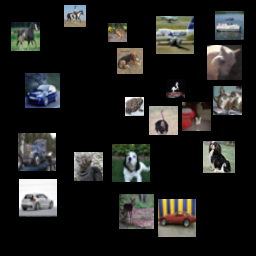airplane: (171, 192, 203, 224)
automobile: (214, 87, 246, 119), (39, 8, 61, 30)
bird: (4, 127, 39, 162)
cat: (175, 97, 210, 132), (40, 39, 75, 74), (91, 14, 123, 46), (139, 183, 168, 212)
deer: (69, 121, 104, 156), (187, 156, 213, 182)
dog: (105, 47, 143, 85), (69, 200, 88, 219)
frog: (133, 6, 159, 32), (122, 108, 144, 130), (39, 88, 61, 110)
ship: (98, 198, 136, 236)
